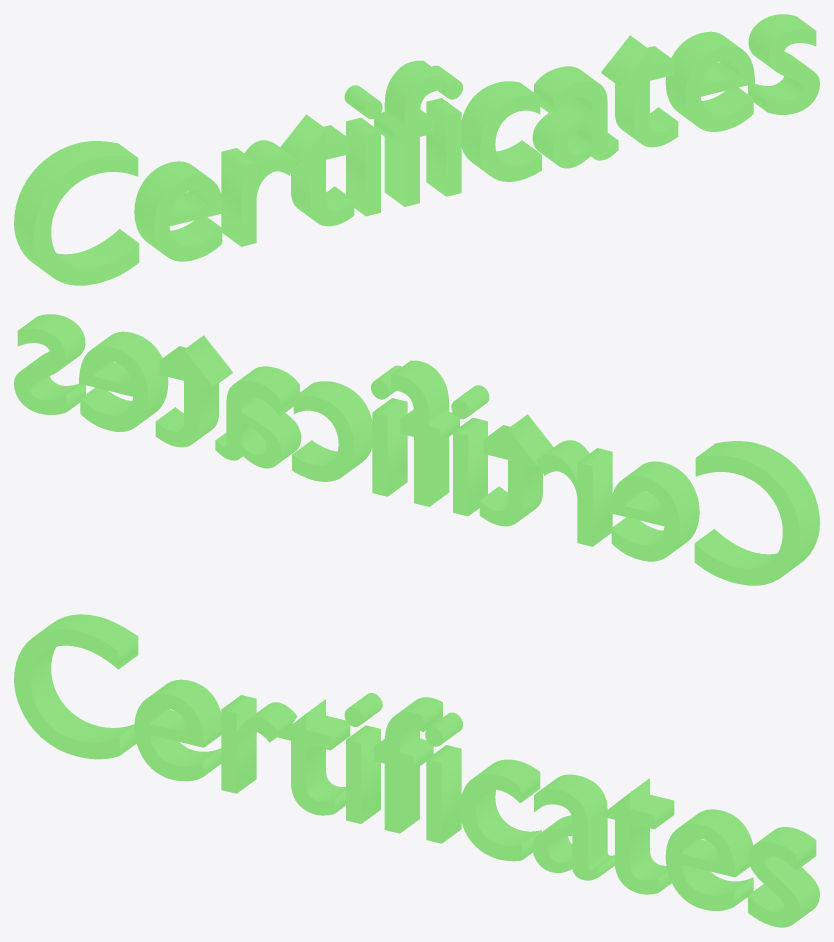
Rendered from certext.glb.
3 views of the same model, one above another, from view 1: azimuth 30°, elevation 25°; view 2: azimuth 150°, elevation 25°; view 3: azimuth 330°, elevation 25° (orthographic).
Parts seen in each view (by area): view 1: Text; view 2: Text; view 3: Text.
Part boxes in pixels (x1=…): Text: x1=14, y1=14, x2=819, y2=285; Text: x1=14, y1=314, x2=819, y2=585; Text: x1=14, y1=614, x2=819, y2=927.
Bounding box in the file's own units: 4.58 × 0.7004 × 0.2.
